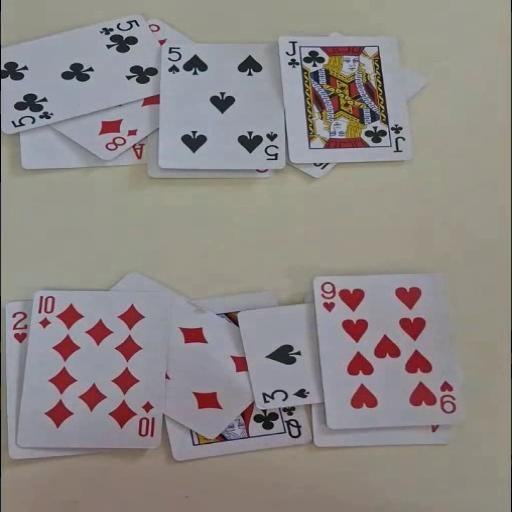10: (135, 399, 156, 438), (35, 293, 56, 329)
2: (9, 309, 29, 344)
3: (259, 386, 312, 404)
5: (96, 17, 141, 36), (8, 110, 54, 128), (262, 130, 280, 161), (167, 45, 185, 74)
8: (101, 127, 140, 152)
9: (437, 378, 458, 414), (318, 280, 337, 314)
J: (388, 122, 406, 153), (284, 40, 300, 68)
